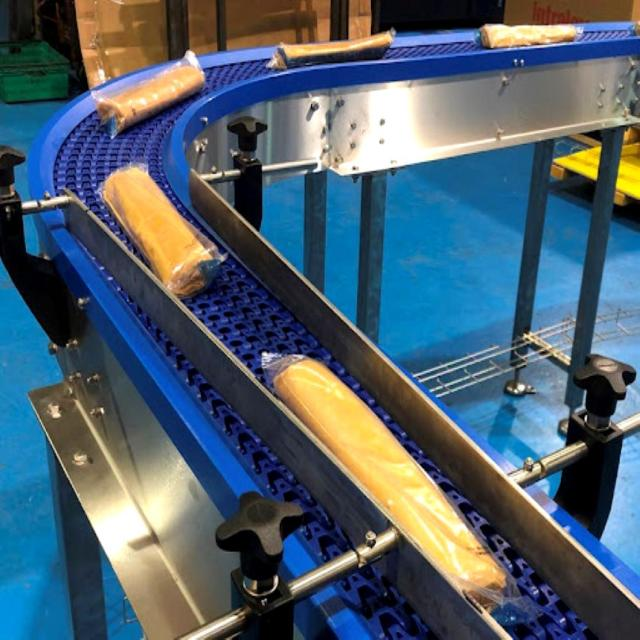food: (259, 348, 520, 615), (100, 163, 227, 299), (90, 48, 206, 140)
